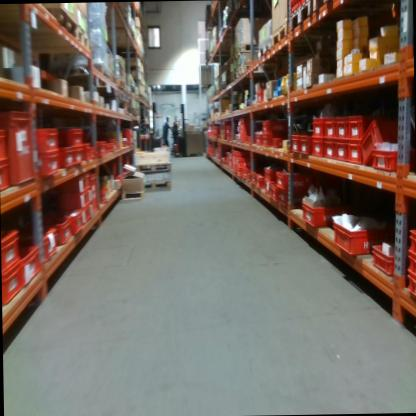pallet: (0, 14, 78, 48), (288, 0, 313, 36), (61, 26, 91, 55), (271, 16, 290, 49), (143, 176, 171, 194), (312, 0, 343, 15), (136, 159, 171, 172), (232, 41, 258, 58), (233, 63, 259, 79), (257, 40, 271, 62)
pallet_truck: (169, 95, 188, 159), (148, 96, 166, 148)
small_load_carrier: (3, 104, 40, 186), (358, 114, 404, 163), (333, 211, 374, 258), (301, 189, 333, 236), (2, 224, 26, 283), (19, 241, 42, 291), (38, 227, 59, 272), (366, 147, 400, 174), (368, 235, 392, 271), (2, 265, 23, 305), (45, 215, 70, 247), (58, 183, 86, 211), (274, 168, 311, 189), (62, 173, 91, 196), (43, 147, 62, 181), (237, 114, 258, 144), (66, 207, 81, 245), (38, 128, 60, 151), (260, 115, 285, 135), (346, 112, 364, 138), (63, 127, 85, 148), (90, 172, 99, 222), (403, 250, 416, 279), (348, 141, 363, 166), (0, 162, 13, 189), (0, 128, 10, 163), (279, 191, 298, 209), (74, 207, 87, 232), (231, 149, 243, 174), (298, 133, 311, 156), (334, 116, 348, 137), (321, 115, 335, 135), (311, 137, 324, 158), (61, 147, 75, 166), (263, 164, 275, 186), (406, 229, 416, 255), (405, 274, 416, 297), (72, 146, 83, 169), (325, 138, 337, 159), (312, 117, 324, 138), (333, 140, 344, 161), (255, 172, 266, 192), (290, 132, 300, 152), (243, 131, 255, 147), (262, 133, 273, 150), (264, 181, 273, 198), (253, 131, 263, 146), (97, 136, 105, 154), (273, 136, 282, 151), (271, 186, 278, 205), (84, 138, 91, 157), (83, 184, 90, 202), (289, 1, 300, 12), (243, 172, 253, 184), (256, 87, 263, 103), (244, 157, 252, 170), (235, 167, 243, 179), (251, 172, 257, 187), (84, 204, 89, 221), (236, 156, 243, 166), (299, 0, 307, 6), (91, 144, 94, 159), (248, 172, 252, 180)
